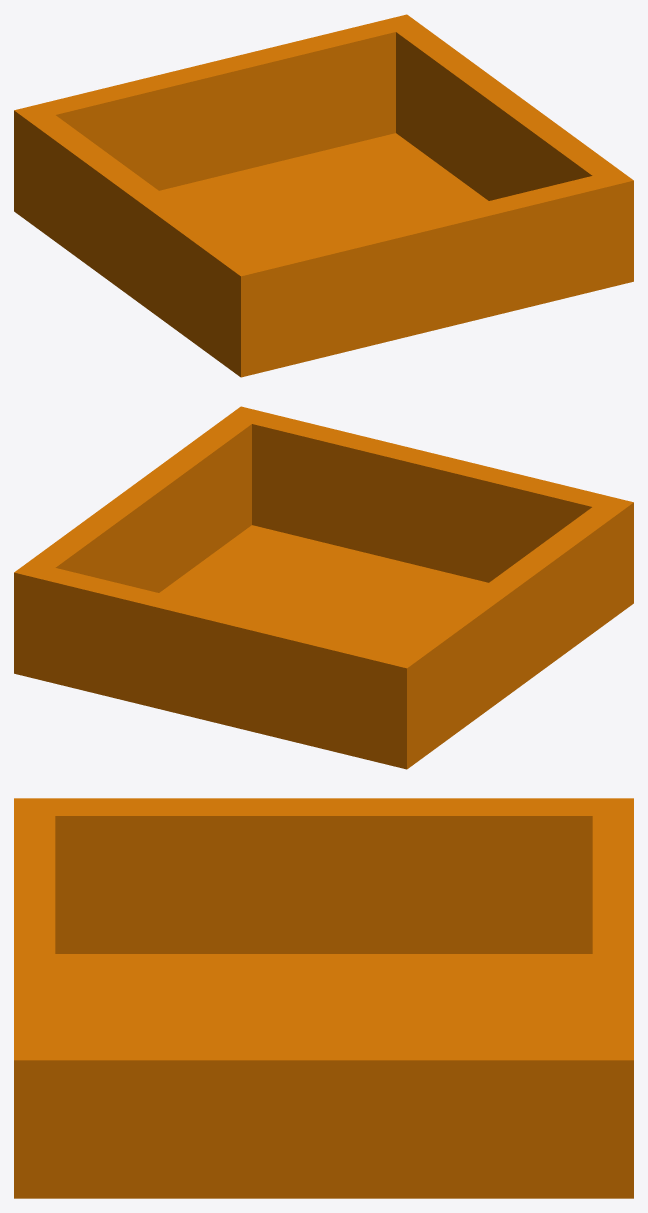
Rendered from RoomGoal.glb.
3 views of the same model, one above another, from view 1: azimuth 30°, elevation 25°; view 2: azimuth 150°, elevation 25°; view 3: azimuth 270°, elevation 25° (orthographic). The views are drawn at different scales.
Visible parts, largest first — view 1: Plane; view 2: Plane; view 3: Plane.
Boxes of the visible parts, bbox=[...] form: Plane: bbox=[14, 14, 633, 377]; Plane: bbox=[14, 406, 633, 769]; Plane: bbox=[14, 798, 633, 1198].
Bounding box in the file's own units: 1 × 0.2458 × 1.
